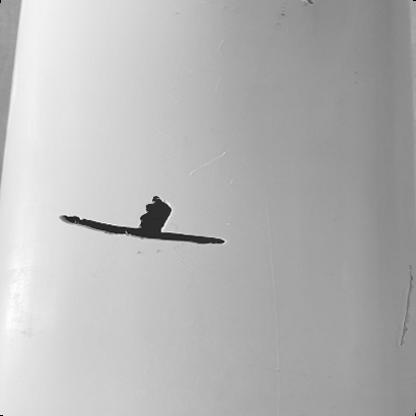fengxi: (59, 213, 227, 246)
kongdong: (136, 196, 173, 232)
